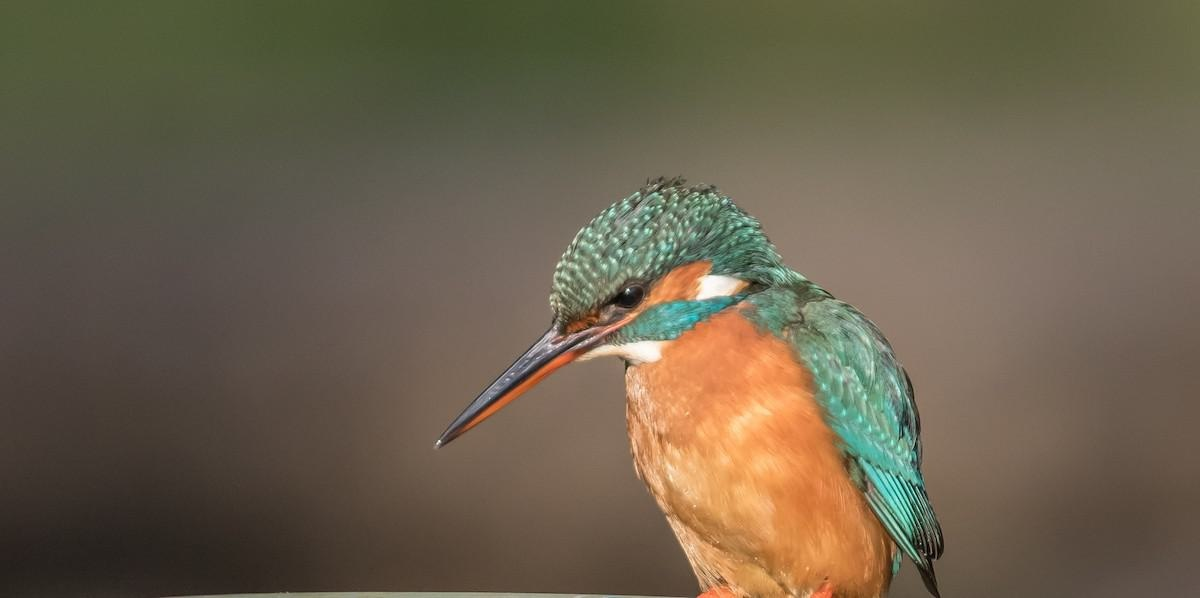kingfisher: (426, 176, 950, 585)
